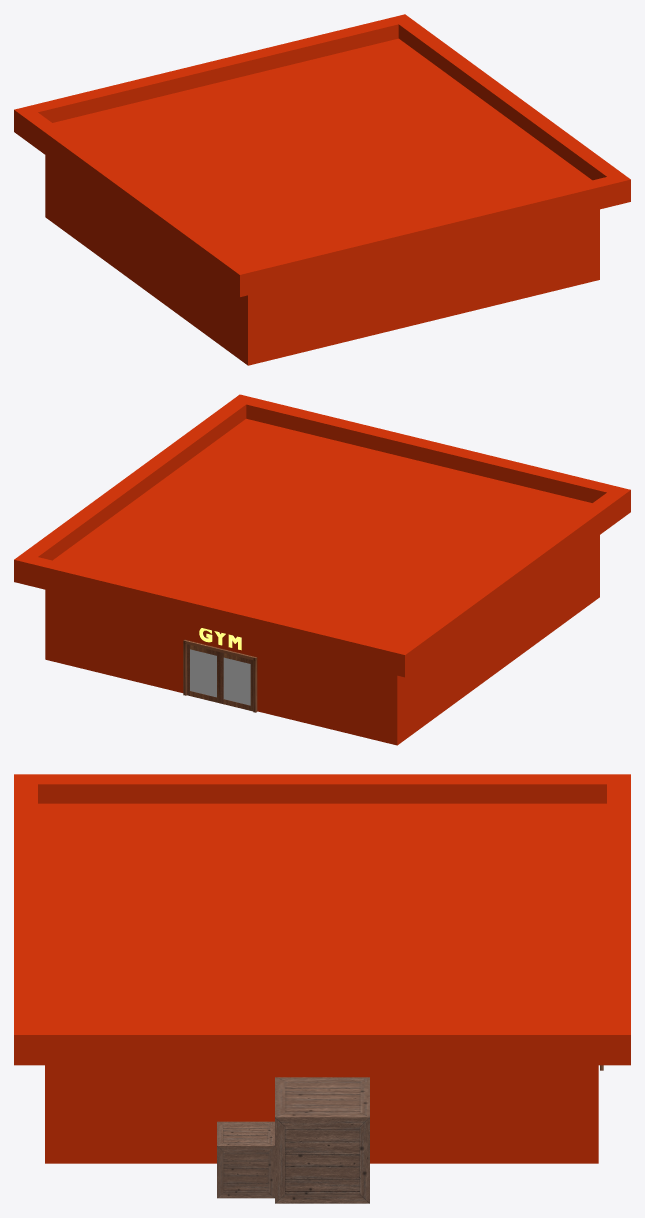
Rendered from gym101.fbx.
3 views of the same model, one above another, from view 1: azimuth 30°, elevation 25°; view 2: azimuth 150°, elevation 25°; view 3: azimuth 270°, elevation 25° (orthographic). The views are drawn at different scales.
Visible parts, largest first — view 1: Cube.010, Cube.009; view 2: Cube.010, Cube.009, Cube.006, Cube.008, Cube.007, Cube.004, Cube.005; view 3: Cube.010, Cube.009, Cube.001, Cube.003.
Boxes of the visible parts, x1,y1,x2,y2 form: Cube.010: (14, 14, 630, 296); Cube.009: (45, 155, 599, 365); Cube.010: (14, 394, 630, 677); Cube.009: (45, 535, 599, 745); Cube.006: (223, 657, 250, 705); Cube.008: (190, 649, 216, 697); Cube.007: (183, 639, 257, 712); Cube.004: (186, 644, 220, 703); Cube.005: (220, 652, 253, 711); Cube.010: (14, 774, 630, 1065); Cube.009: (45, 1065, 598, 1163); Cube.001: (275, 1077, 369, 1203); Cube.003: (217, 1121, 274, 1198).
Bounding box in the file's own units: 2454 × 564 × 2223.
